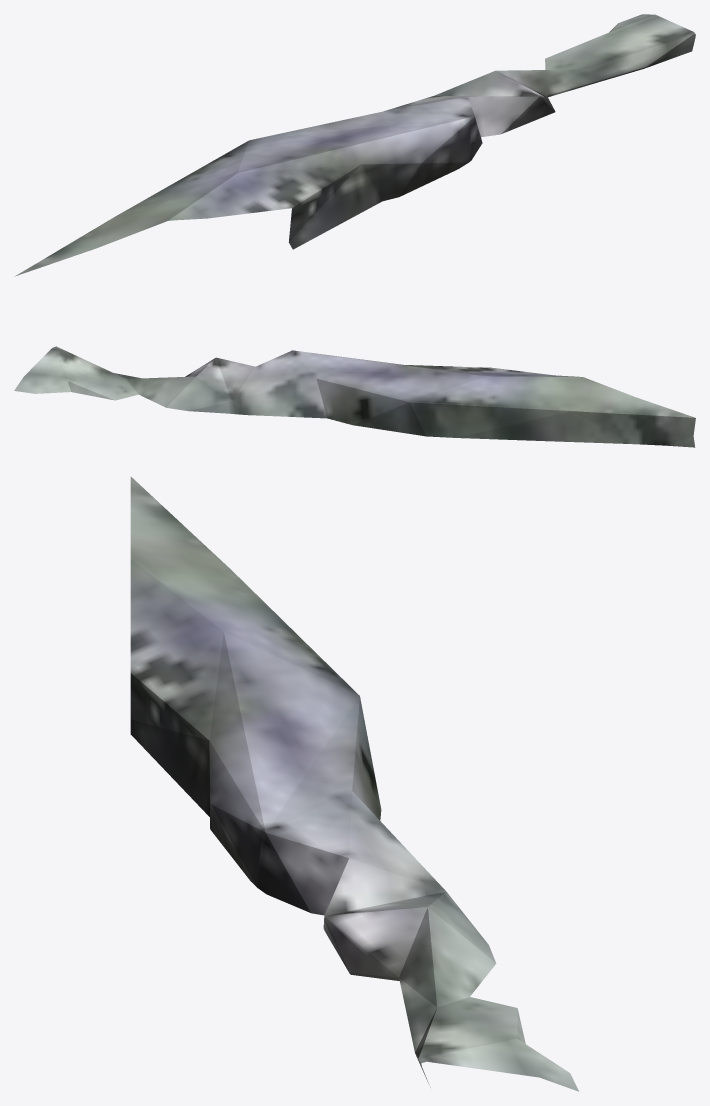
The picture shows the model from 3 angles, top to bottom: view 1: azimuth 30°, elevation 25°; view 2: azimuth 150°, elevation 25°; view 3: azimuth 270°, elevation 25°; orthographic projection. The views are drawn at different scales.
Bounding box in the file's own units: 0.3388 × 0.0246 × 0.1156.
1 material, 1 textured.
